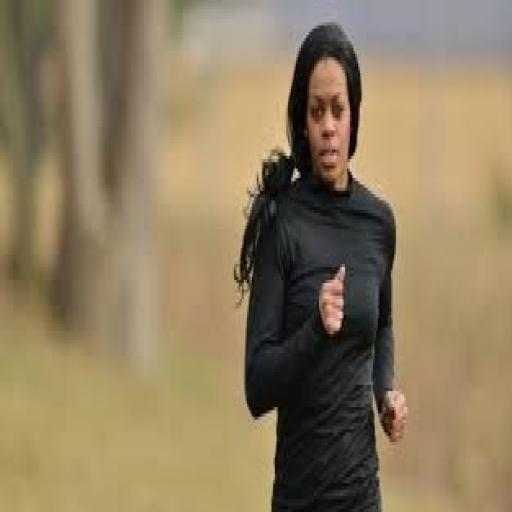running: (234, 19, 409, 509)
